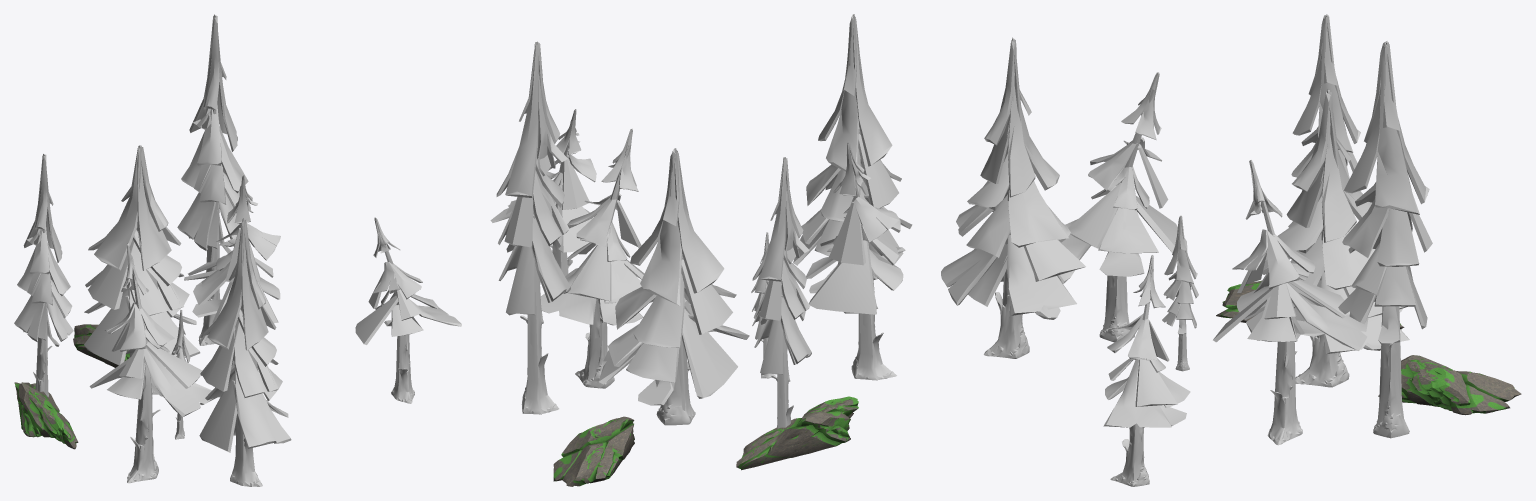
Rendered from tree_group_03_sm.fbx.
3 renders of one model, left to right at view 1: azimuth 30°, elevation 25°; view 2: azimuth 150°, elevation 25°; view 3: azimuth 270°, elevation 25°, orthographic. The views are drawn at different scales.
Parts seen in each view (by area): view 1: tree_tex_02.001|TREE_07B_lo.007|Dupli|, tree_tex_02|TREE_07B_lo.007|Dupli|, tree_tex_03|TREE_07B_lo.026|Dupli|, tree_tex_01.003|TREE_07B_lo|Dupli|, tree_tex_01|TREE_07B_lo|Dupli|, tree_tex_03.002|TREE_07B_lo.026|Dupli|, tree_tex_03.001|TREE_07B_lo.026|Dupli|, rock_01.005|Mesh|Dupli|, rock_01.006|Mesh|Dupli|, tree_tex_01.001|TREE_07B_lo|Dupli|; view 2: tree_tex_02|TREE_07B_lo.007|Dupli|, tree_tex_01.003|TREE_07B_lo|Dupli|, tree_tex_03|TREE_07B_lo.026|Dupli|, tree_tex_03.001|TREE_07B_lo.026|Dupli|, tree_tex_02.001|TREE_07B_lo.007|Dupli|, tree_tex_01|TREE_07B_lo|Dupli|, rock_01.005|Mesh|Dupli|, rock_01.006|Mesh|Dupli|, tree_tex_03.002|TREE_07B_lo.026|Dupli|, tree_tex_01.001|TREE_07B_lo|Dupli|; view 3: tree_tex_02.001|TREE_07B_lo.007|Dupli|, tree_tex_01.003|TREE_07B_lo|Dupli|, tree_tex_02|TREE_07B_lo.007|Dupli|, tree_tex_03.001|TREE_07B_lo.026|Dupli|, tree_tex_03|TREE_07B_lo.026|Dupli|, tree_tex_03.002|TREE_07B_lo.026|Dupli|, rock_01.006|Mesh|Dupli|, tree_tex_01|TREE_07B_lo|Dupli|, tree_tex_01.001|TREE_07B_lo|Dupli|, rock_01.005|Mesh|Dupli|.
Boxes of the visible parts, left/top/right/bottom form: tree_tex_02.001|TREE_07B_lo.007|Dupli|: left=199, top=218, right=291, bottom=486; tree_tex_02|TREE_07B_lo.007|Dupli|: left=84, top=145, right=200, bottom=394; tree_tex_03|TREE_07B_lo.026|Dupli|: left=89, top=243, right=212, bottom=483; tree_tex_01.003|TREE_07B_lo|Dupli|: left=177, top=14, right=250, bottom=345; tree_tex_01|TREE_07B_lo|Dupli|: left=14, top=154, right=73, bottom=397; tree_tex_03.002|TREE_07B_lo.026|Dupli|: left=355, top=217, right=461, bottom=403; tree_tex_03.001|TREE_07B_lo.026|Dupli|: left=184, top=175, right=280, bottom=323; rock_01.005|Mesh|Dupli|: left=14, top=382, right=78, bottom=449; rock_01.006|Mesh|Dupli|: left=73, top=324, right=129, bottom=367; tree_tex_01.001|TREE_07B_lo|Dupli|: left=171, top=310, right=190, bottom=439; tree_tex_02|TREE_07B_lo.007|Dupli|: left=598, top=148, right=749, bottom=425; tree_tex_01.003|TREE_07B_lo|Dupli|: left=496, top=41, right=570, bottom=414; tree_tex_03|TREE_07B_lo.026|Dupli|: left=806, top=142, right=905, bottom=380; tree_tex_03.001|TREE_07B_lo.026|Dupli|: left=540, top=128, right=644, bottom=388; tree_tex_02.001|TREE_07B_lo.007|Dupli|: left=793, top=14, right=912, bottom=313; tree_tex_01|TREE_07B_lo|Dupli|: left=752, top=157, right=811, bottom=428; rock_01.005|Mesh|Dupli|: left=736, top=396, right=858, bottom=470; rock_01.006|Mesh|Dupli|: left=553, top=416, right=634, bottom=486; tree_tex_03.002|TREE_07B_lo.026|Dupli|: left=490, top=109, right=596, bottom=276; tree_tex_01.001|TREE_07B_lo|Dupli|: left=751, top=232, right=775, bottom=378; tree_tex_02.001|TREE_07B_lo.007|Dupli|: left=941, top=37, right=1085, bottom=358; tree_tex_01.003|TREE_07B_lo|Dupli|: left=1338, top=41, right=1432, bottom=438; tree_tex_02|TREE_07B_lo.007|Dupli|: left=1237, top=89, right=1409, bottom=387; tree_tex_03.001|TREE_07B_lo.026|Dupli|: left=1213, top=160, right=1368, bottom=445; tree_tex_03|TREE_07B_lo.026|Dupli|: left=1057, top=72, right=1187, bottom=342; tree_tex_03.002|TREE_07B_lo.026|Dupli|: left=1103, top=255, right=1190, bottom=486; rock_01.006|Mesh|Dupli|: left=1378, top=355, right=1521, bottom=415; tree_tex_01|TREE_07B_lo|Dupli|: left=1288, top=14, right=1360, bottom=227; tree_tex_01.001|TREE_07B_lo|Dupli|: left=1162, top=215, right=1198, bottom=371; rock_01.005|Mesh|Dupli|: left=1216, top=280, right=1404, bottom=329.
Bounding box in the file's own units: 2463 × 2173 × 2817.
